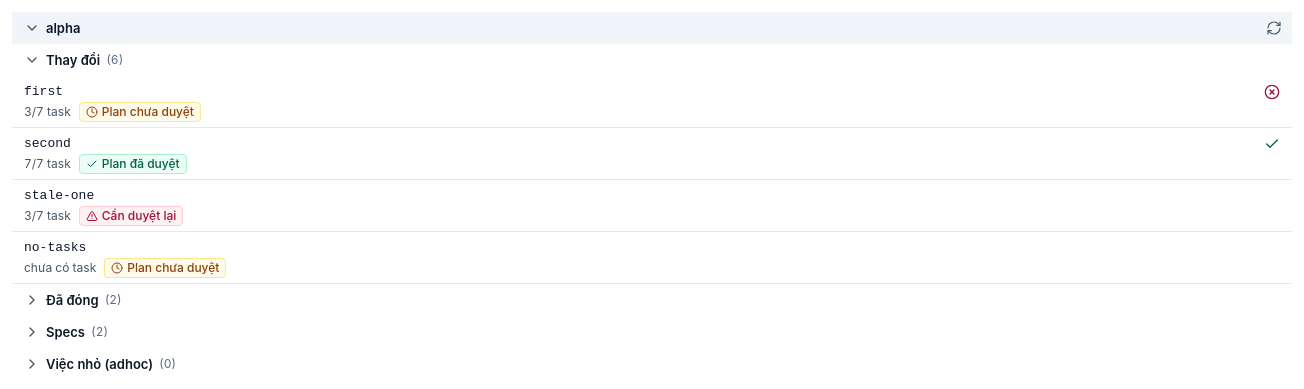
Scenario: <PlanTree /> › states › a failed refetch replaces the old rows with the error and Thử lại
The width and height of the screenshot is (1304, 389).
Expected: the text "first" is shown, [24, 84, 63, 98]
Click the button named "Đọc lại plan và spec" at point(1274, 28), box [1260, 14, 1288, 42]
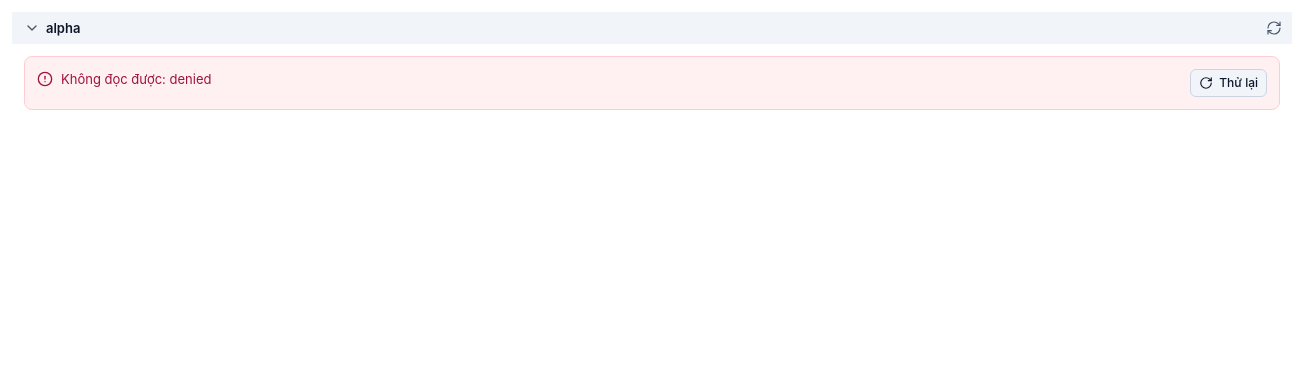
Now the text "Không đọc được: denied" is shown, box [61, 71, 211, 87]
Now the button "Thử lại" is shown, box [1190, 69, 1267, 97]
Now the button "first" is gone
